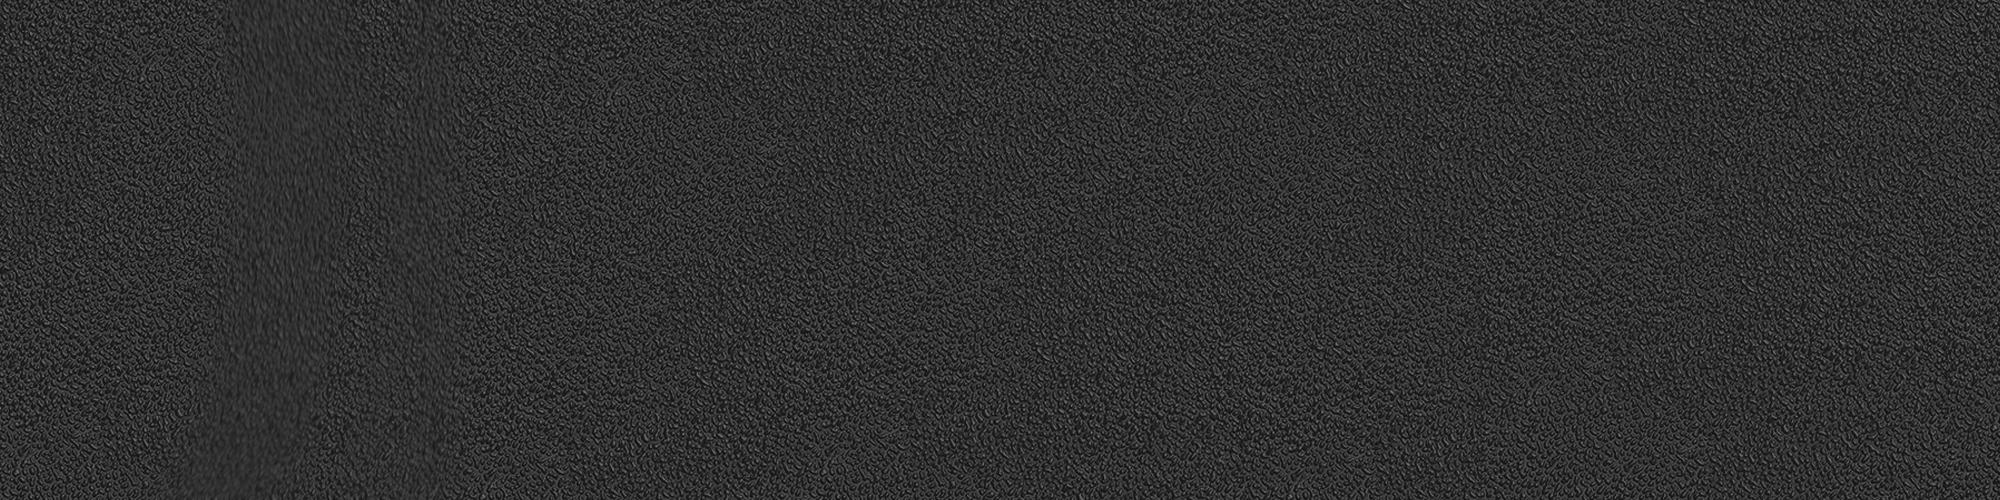Flow_Lines: (194, 27, 353, 485)
